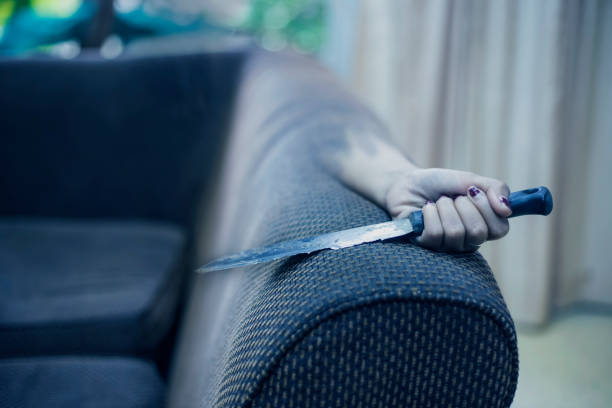knife: (192, 185, 555, 275)
